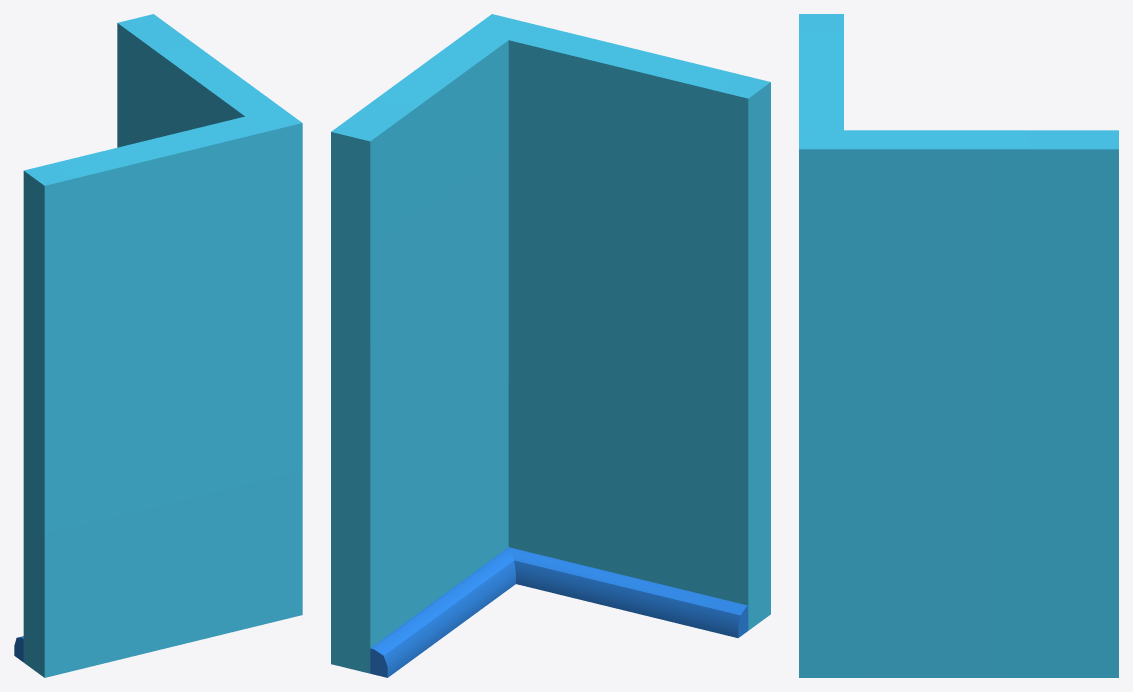
The model's file is B_WallCorner2.fbx.
3 views of the same model, side by side, from view 1: azimuth 30°, elevation 25°; view 2: azimuth 150°, elevation 25°; view 3: azimuth 270°, elevation 25° (orthographic). The views are drawn at different scales.
Parts seen in each view (by area): view 1: WallCorner2.001; view 2: WallCorner2.001; view 3: WallCorner2.001.
Part boxes in pixels (x1,y1,x2,y2): WallCorner2.001: (14,14,302,677); WallCorner2.001: (331,14,770,677); WallCorner2.001: (799,14,1118,677).
Size of the model in its own units: 137 by 250 by 137.
Materials: 1 (1 with a texture image).
